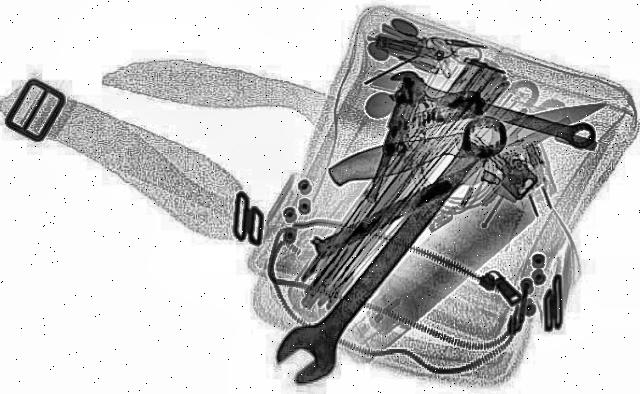Gun: (368, 80, 489, 210)
Knife: (311, 115, 584, 259), (318, 90, 622, 196)
Wrench: (258, 113, 522, 391), (378, 70, 608, 156)
